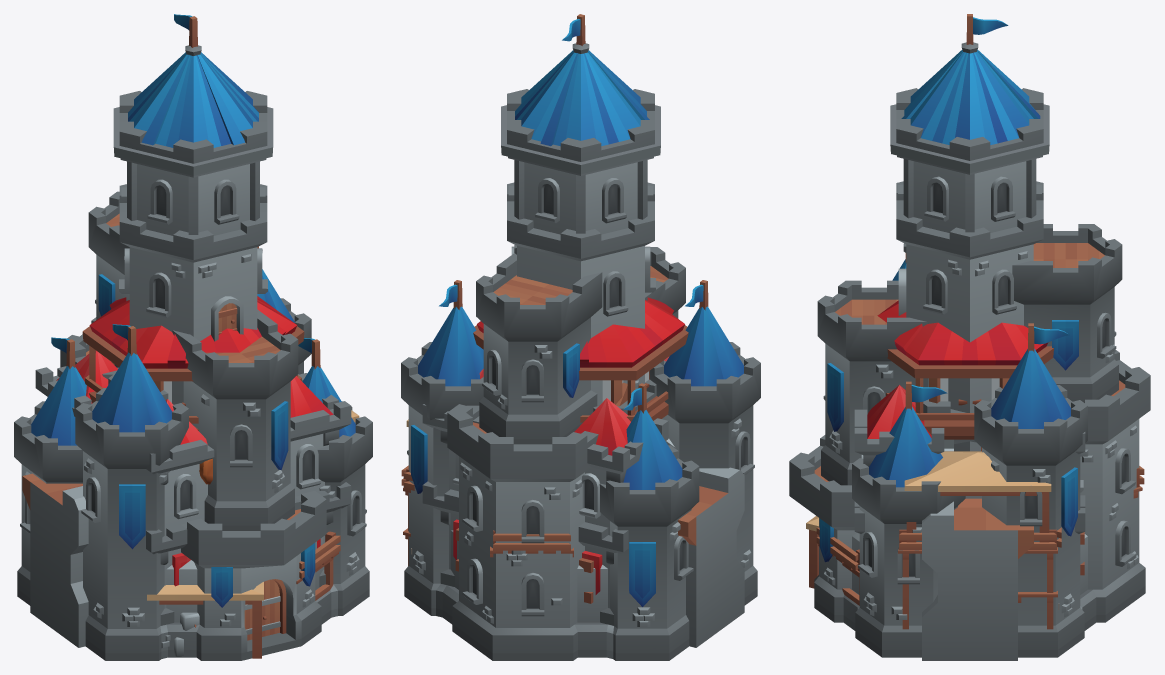
File: town-buildings.glb
3 renders of one model, left to right at view 1: azimuth 30°, elevation 25°; view 2: azimuth 150°, elevation 25°; view 3: azimuth 270°, elevation 25°, orthographic.
Visible parts, largest first — view 1: building_castle_blue, building_barracks_red, wall_straight_gate, building_tower_B_top_red, wall_straight, building_scaffolding; view 2: building_castle_blue, building_barracks_red, building_tower_B_top_red, wall_straight_gate, wall_straight, building_scaffolding; view 3: building_castle_blue, building_tower_B_top_red, wall_straight, building_scaffolding, wall_straight_gate, building_barracks_red, building_tower_A_top_blue.
Part boxes in pixels (<box>): building_castle_blue: <box>14,14,372,660</box>; building_barracks_red: <box>35,350,351,658</box>; wall_straight_gate: <box>22,476,88,647</box>; building_tower_B_top_red: <box>82,296,304,430</box>; wall_straight: <box>22,473,83,632</box>; building_scaffolding: <box>147,410,359,658</box>; building_castle_blue: <box>401,14,760,660</box>; building_barracks_red: <box>422,356,669,658</box>; building_tower_B_top_red: <box>473,297,688,422</box>; wall_straight_gate: <box>665,438,744,647</box>; wall_straight: <box>678,467,744,624</box>; building_scaffolding: <box>401,419,573,565</box>; building_castle_blue: <box>789,14,1150,657</box>; building_tower_B_top_red: <box>877,300,1053,439</box>; wall_straight: <box>922,501,1033,635</box>; building_scaffolding: <box>806,451,1144,629</box>; wall_straight_gate: <box>922,439,1033,660</box>; building_barracks_red: <box>854,385,1085,609</box>; building_tower_A_top_blue: <box>928,378,1009,405</box>.
Size of the model in its own units: 16 by 32.23 by 18.05.
1 material, 1 textured.
